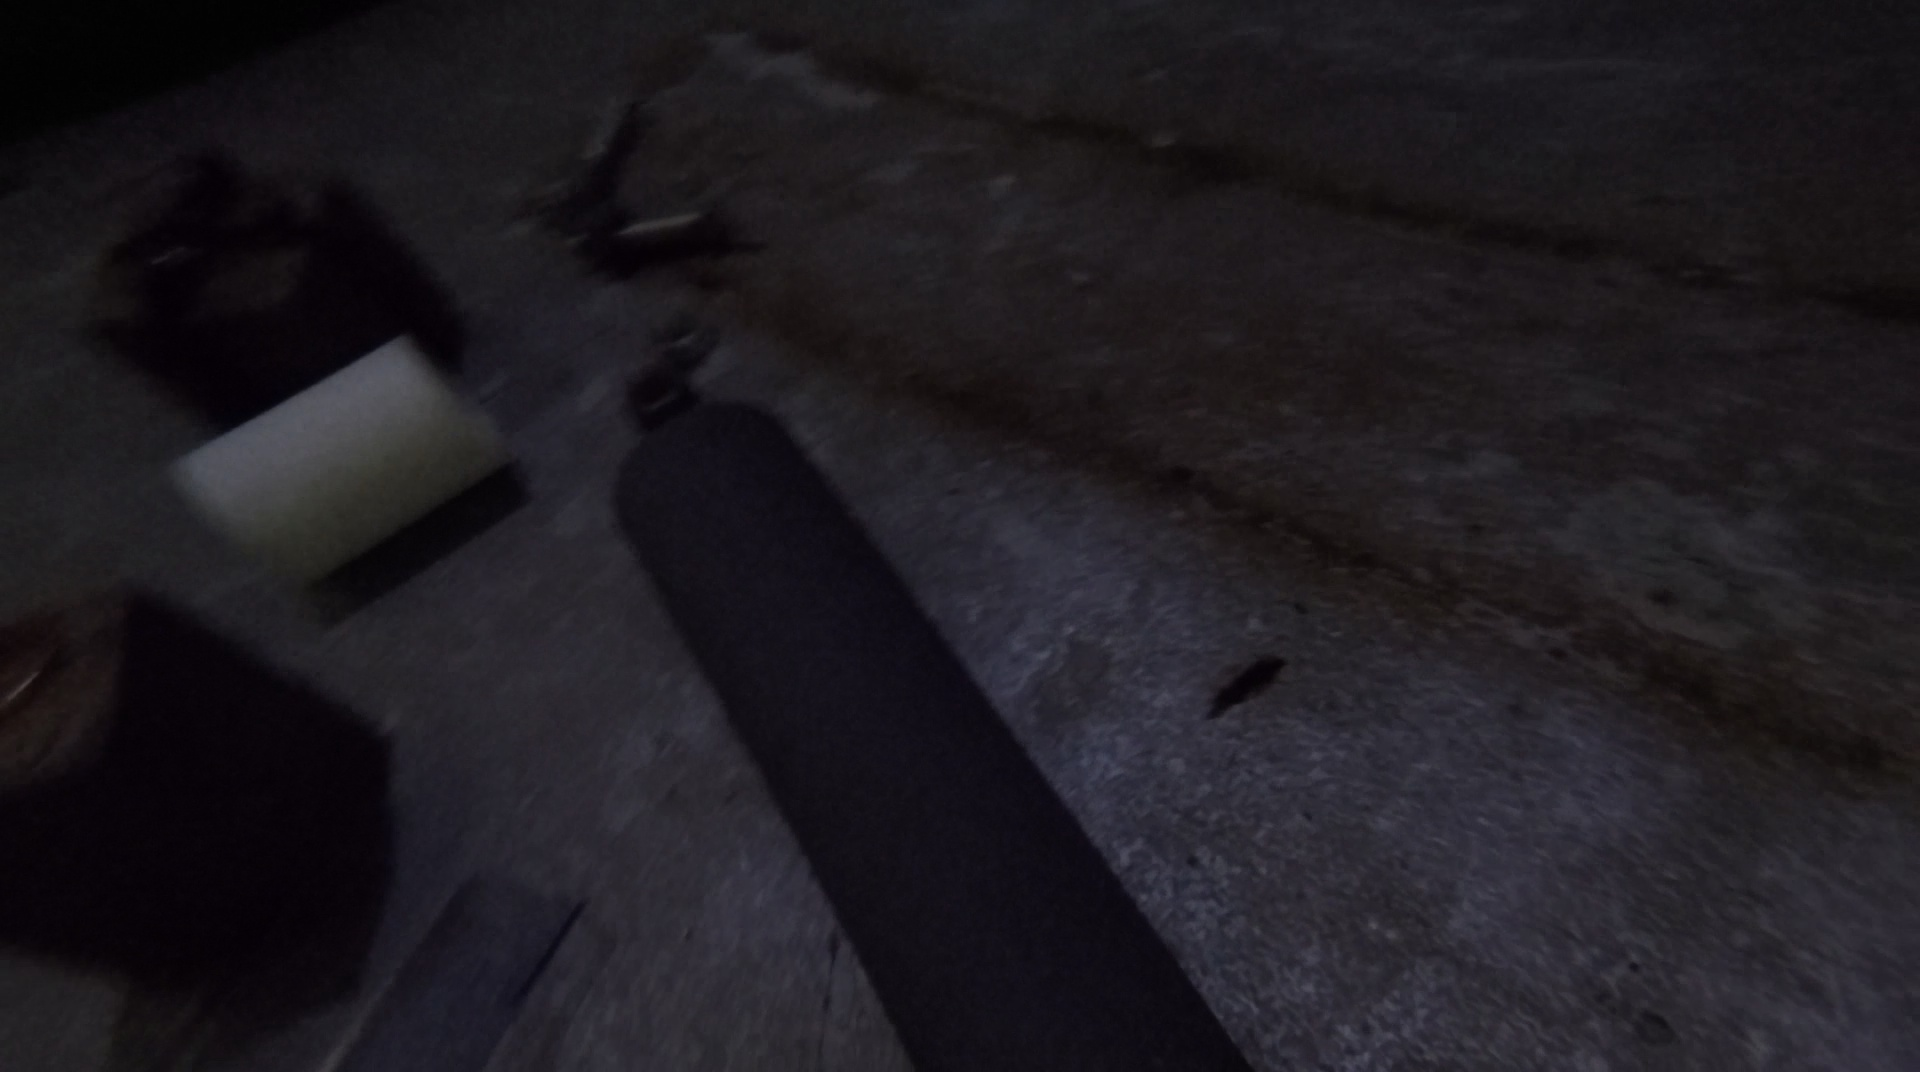bolt: (541, 100, 637, 227), (572, 200, 727, 262)
led_block: (1, 588, 389, 984), (71, 156, 473, 432)
nut: (625, 363, 692, 426), (649, 309, 716, 359), (589, 206, 632, 283)
pipe: (613, 402, 1253, 1072), (171, 335, 522, 592), (324, 870, 612, 1072)
